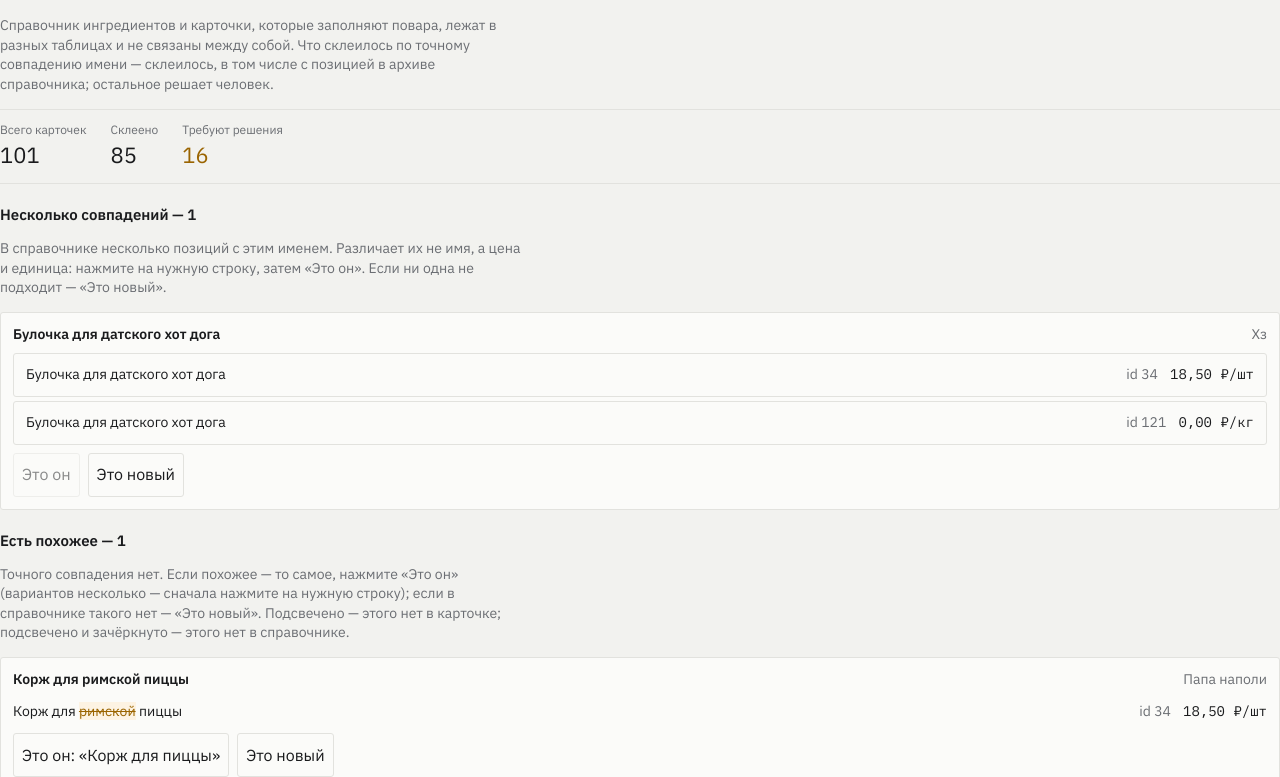
it: недоступное действие объявлено: «Это он» ждёт выбора, несогласованной — пояснение
The image size is (1280, 777).
Expected: the button "Это он" is disabled, left=13, top=452, right=80, bottom=496
Click the radio button labelled "Булочка для датского хот дога id 34 18,50 ₽/шт" at (126, 374), box left=13, top=352, right=1267, bottom=396
(page scrolled)
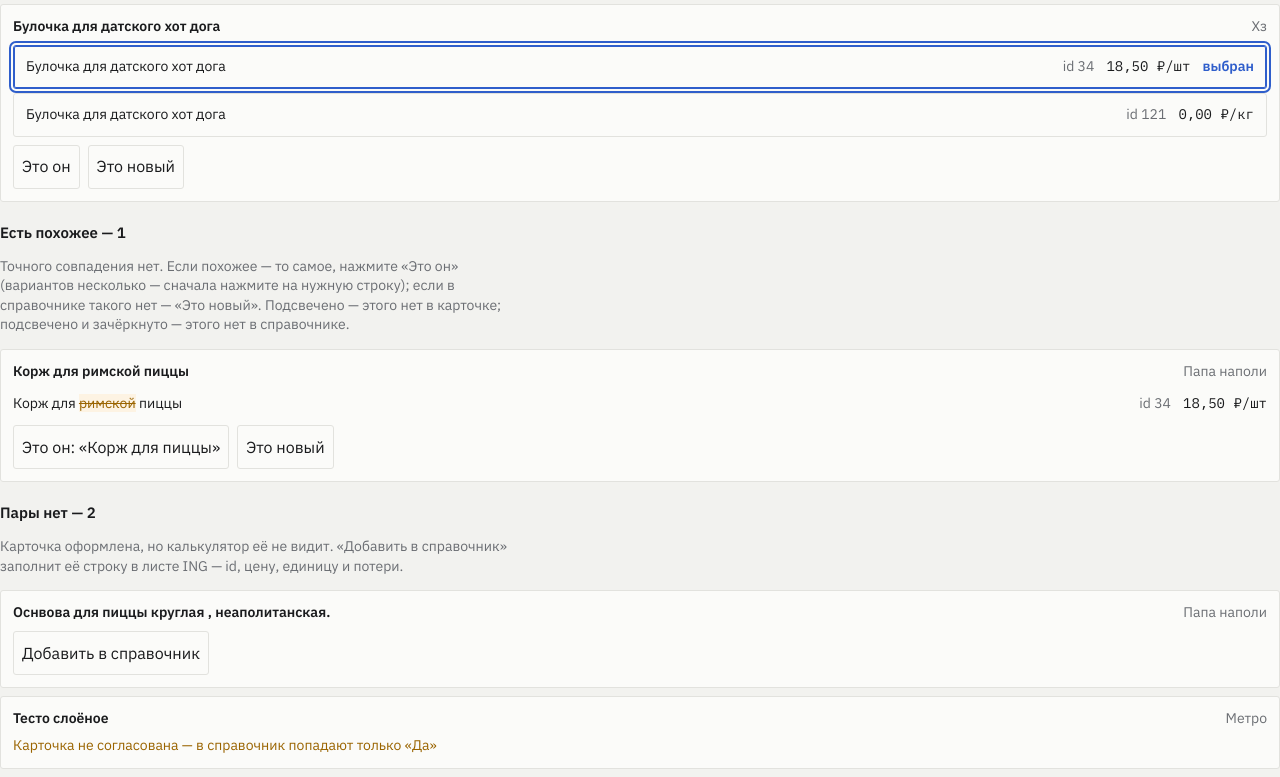
Expected: the text "Карточка не согласована — в справочник попадают только «Да»" is shown, left=13, top=736, right=437, bottom=756
Now the button "Это он" is enabled, box left=13, top=144, right=80, bottom=188
